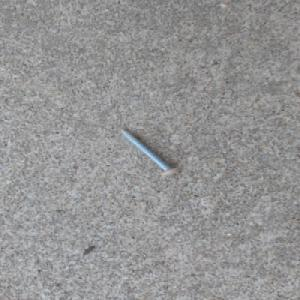Screw: (118, 127, 183, 177)
